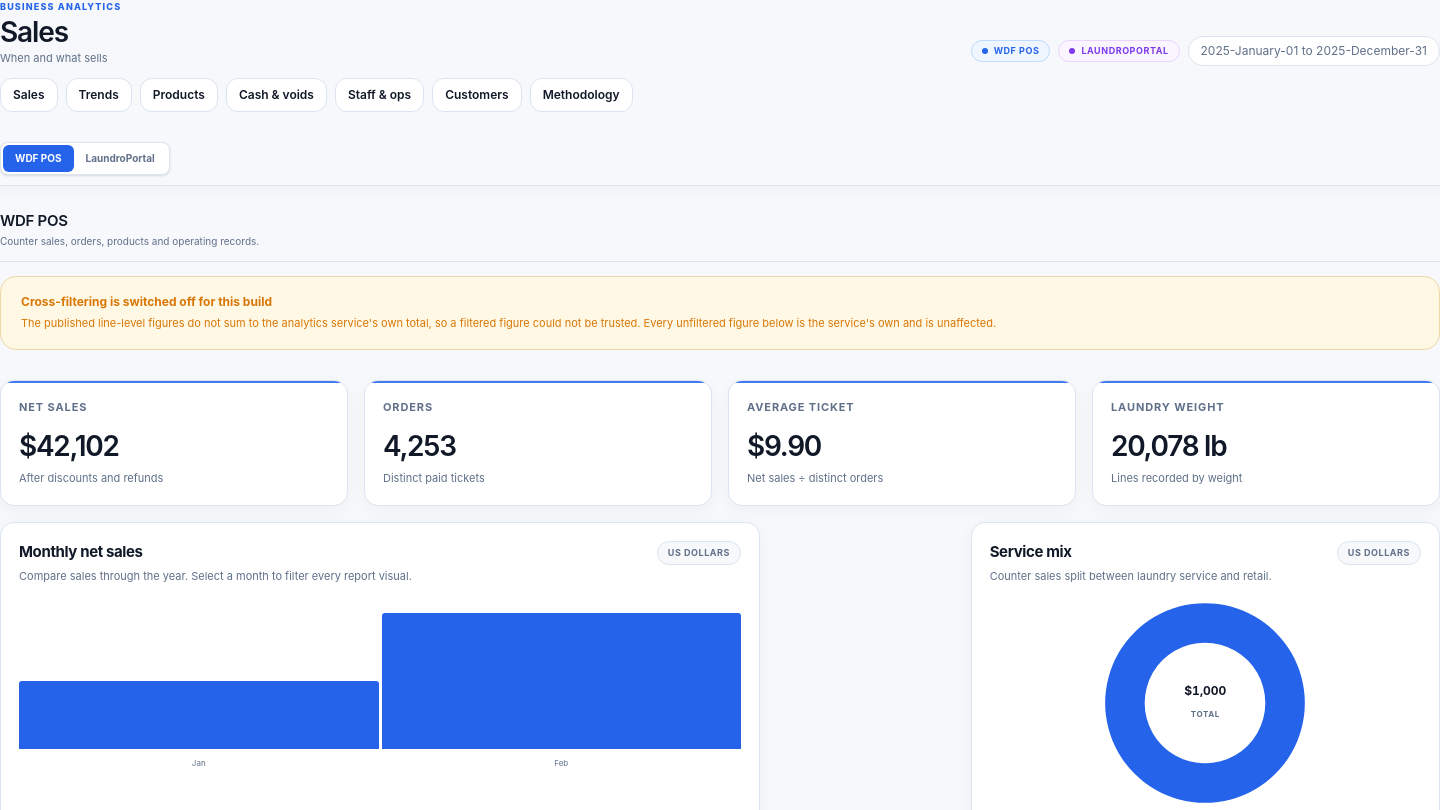
Scenario: analytics dashboard › breaks voids down by reason, customer and employee with coverage stated
The width and height of the screenshot is (1440, 810).
Expected: the text "$42,102" is shown, left=19, top=429, right=119, bottom=463
Step 1. Click the button "Cash & voids" → (276, 94), box left=226, top=78, right=327, bottom=112
(page scrolled)
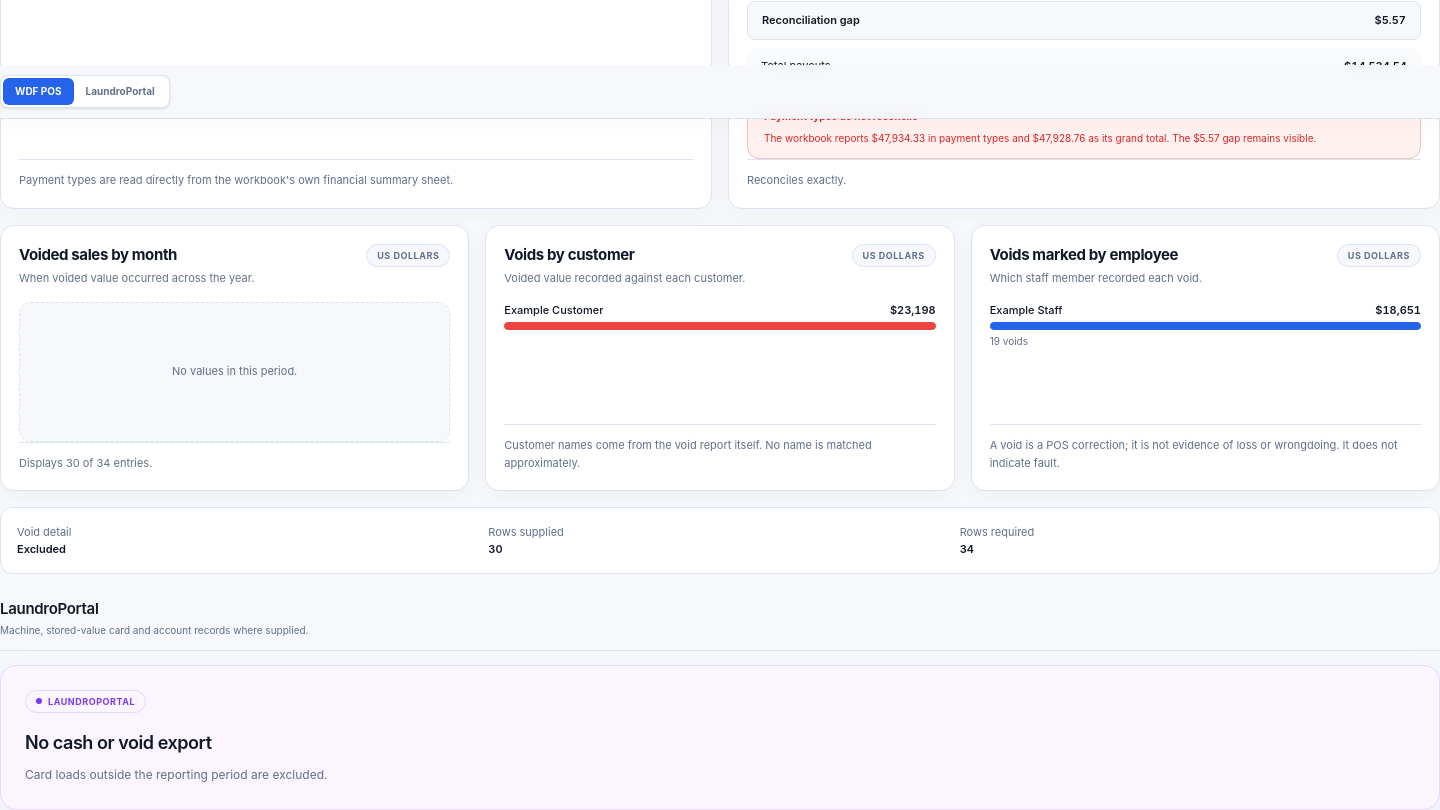
Expected: the heading "Voided sales by month" is shown, left=19, top=245, right=177, bottom=264
Expected: the heading "Voids by customer" is shown, left=504, top=245, right=634, bottom=264
Expected: the heading "Voids marked by employee" is shown, left=990, top=244, right=1202, bottom=266
